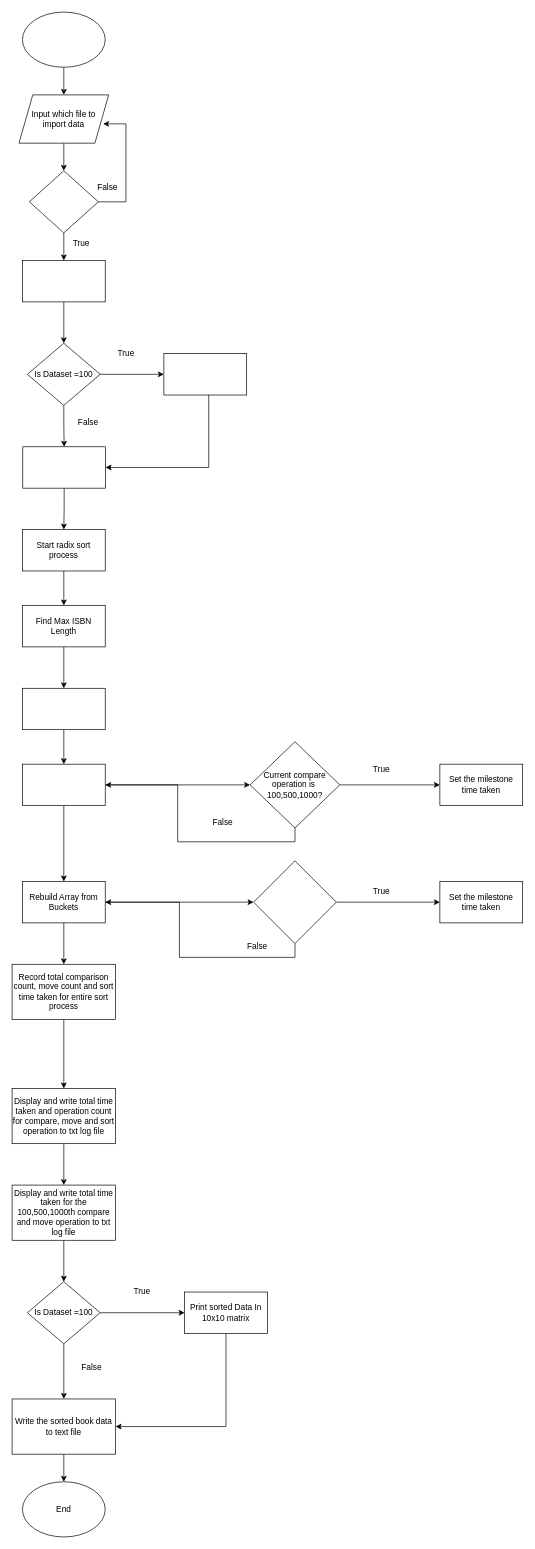
Some shapes in this 535 by 1549 pixel diagram are drawn without their labels. Each missing label, with the centre of its shape:
Current move operation is 100,500,1000?: pixel 294 902
Initialize variable to count compare & move/swap operation: pixel 64 467
Is option valid?: pixel 63 201
Iterative Over Each Digit Position: pixel 63 709
Print unsorted Data In 10x10 matrix: pixel 205 374
Read book data from excel into ADT variable: pixel 63 281
Stable Counting Sort for Current Digit: pixel 63 784
Start: pixel 63 39
